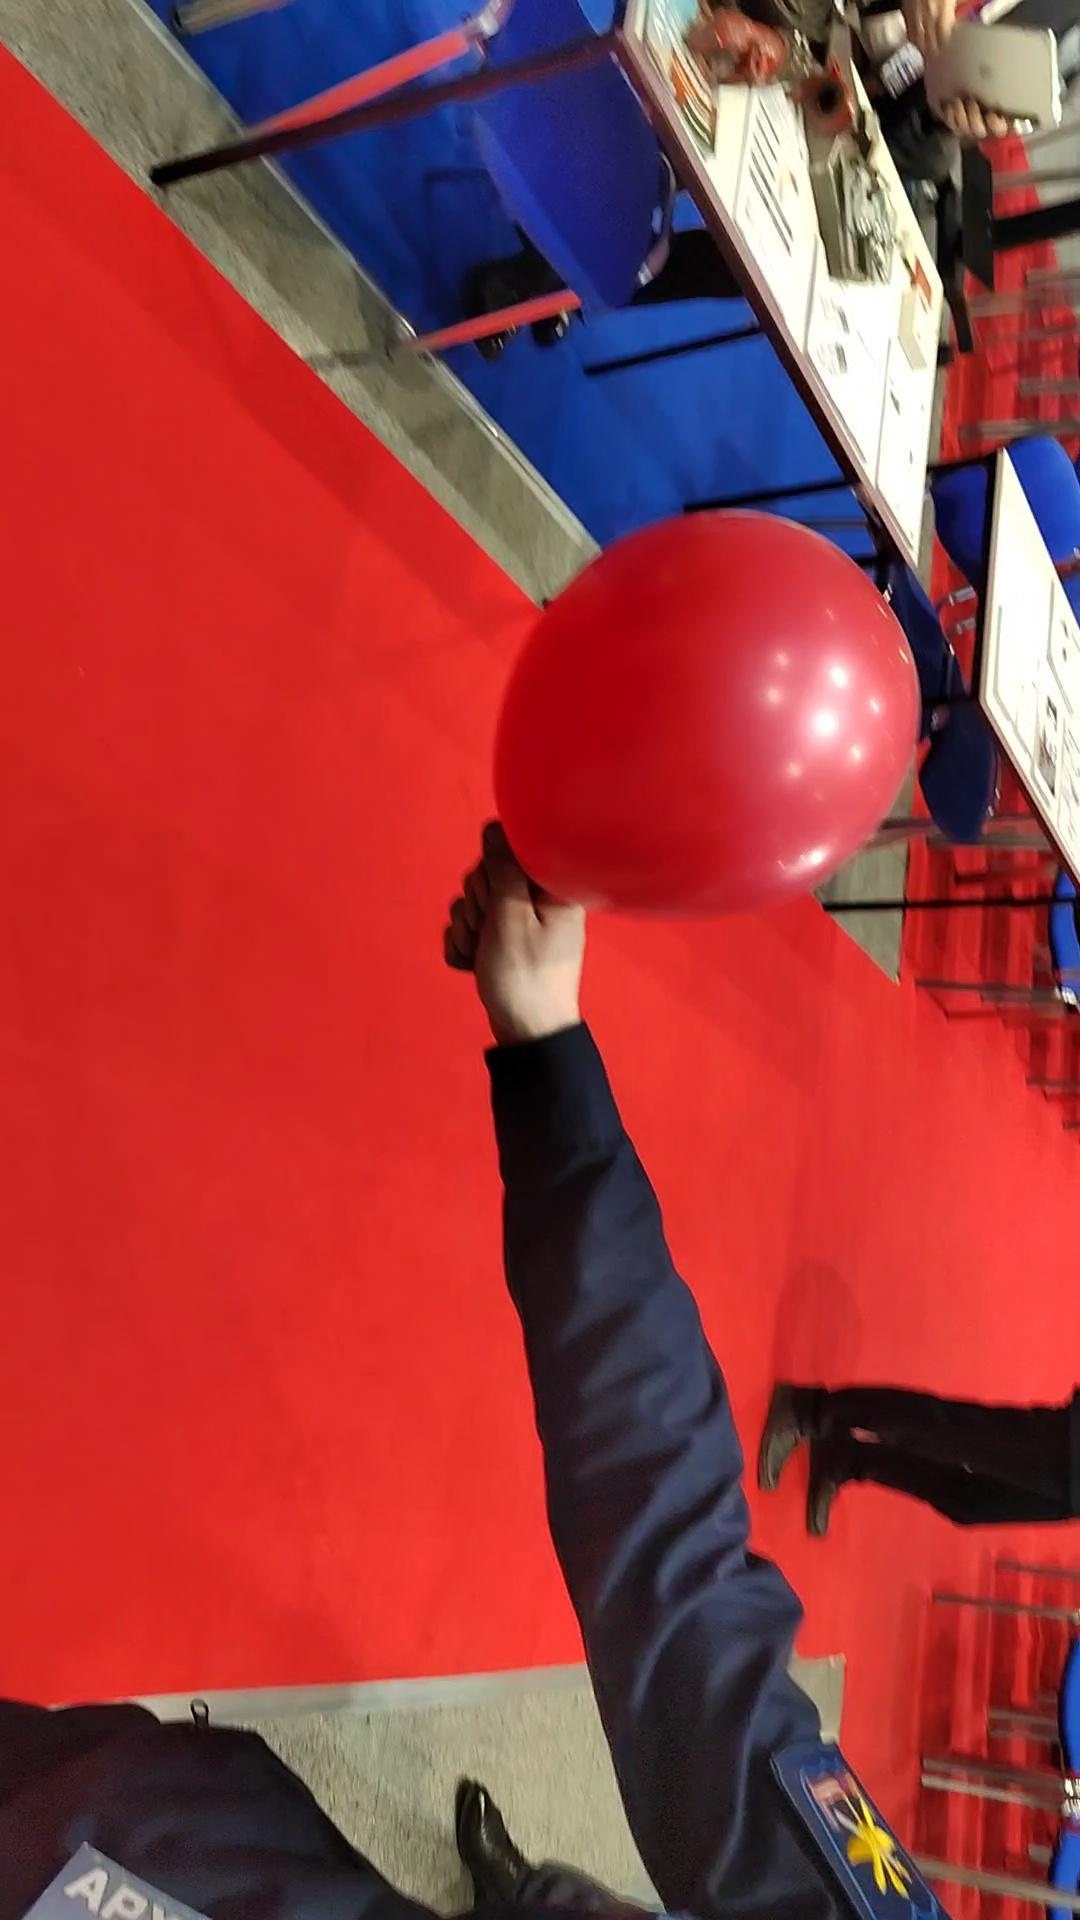red: (497, 502, 920, 911)
